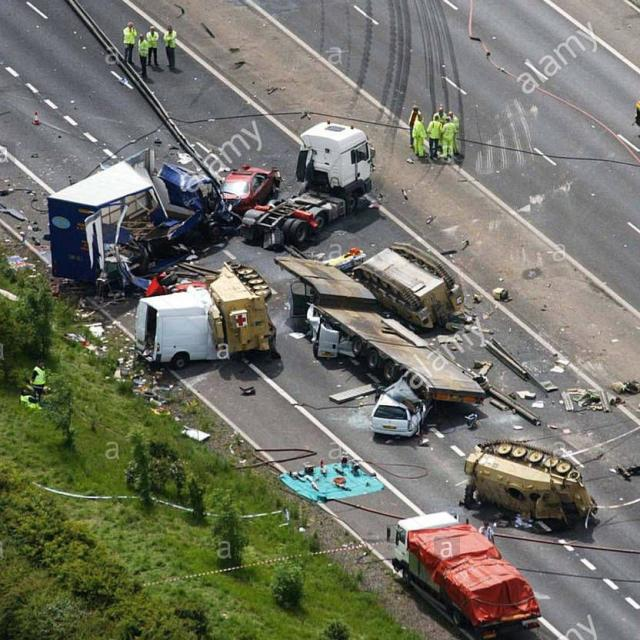traffic_incident: (280, 203, 479, 436), (38, 140, 269, 294), (129, 258, 279, 378), (468, 429, 592, 528)
